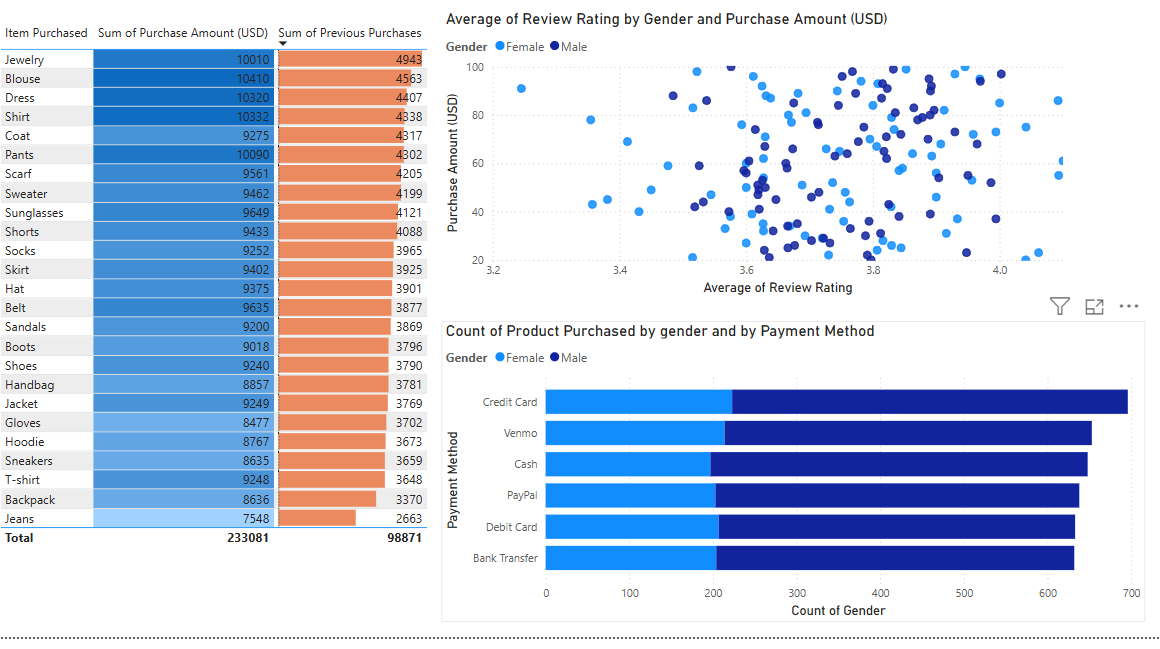

The page's visual inventory and layout, read from the dashboard file:
{"tool":"powerbi","page":{"name":"Page 2","canvas":[1280,720],"ordinal":1},"visuals":[{"type":"tableEx","fields":{"Values":["shopping_trends.Item Purchased","Sum(shopping_trends.Purchase Amount (USD))","Sum(shopping_trends.Previous Purchases)"]},"box":[0,41.2,507.7,596.9],"z":0},{"type":"scatterChart","fields":{"X":["Avg(shopping_trends.Review Rating)"],"Y":["shopping_trends.Purchase Amount (USD)"],"Series":["shopping_trends.Gender"]},"box":[489.9,31.6,695.7,318.4],"z":1000},{"type":"barChart","title":"Count of Product Purchased by gender and by Payment Method","fields":{"Category":["shopping_trends.Payment Method"],"Series":["shopping_trends.Gender"],"Y":["CountNonNull(shopping_trends.Gender)"]},"box":[489.9,373.2,772.6,330.7],"z":2000}]}

Visuals, with their boxes in screenshot pixels (x1, y1, x2, y2), scaled from the page's 1280x720 canvas onto the 1160x649 screenshot:
tableEx - shopping_trends.Item Purchased x Sum(shopping_trends.Purchase Amount (USD)): {"x1": 0, "y1": 37, "x2": 460, "y2": 575}
scatterChart - Avg(shopping_trends.Review Rating) x shopping_trends.Purchase Amount (USD): {"x1": 444, "y1": 28, "x2": 1074, "y2": 315}
"Count of Product Purchased by gender and by Payment Method" barChart: {"x1": 444, "y1": 336, "x2": 1144, "y2": 634}
